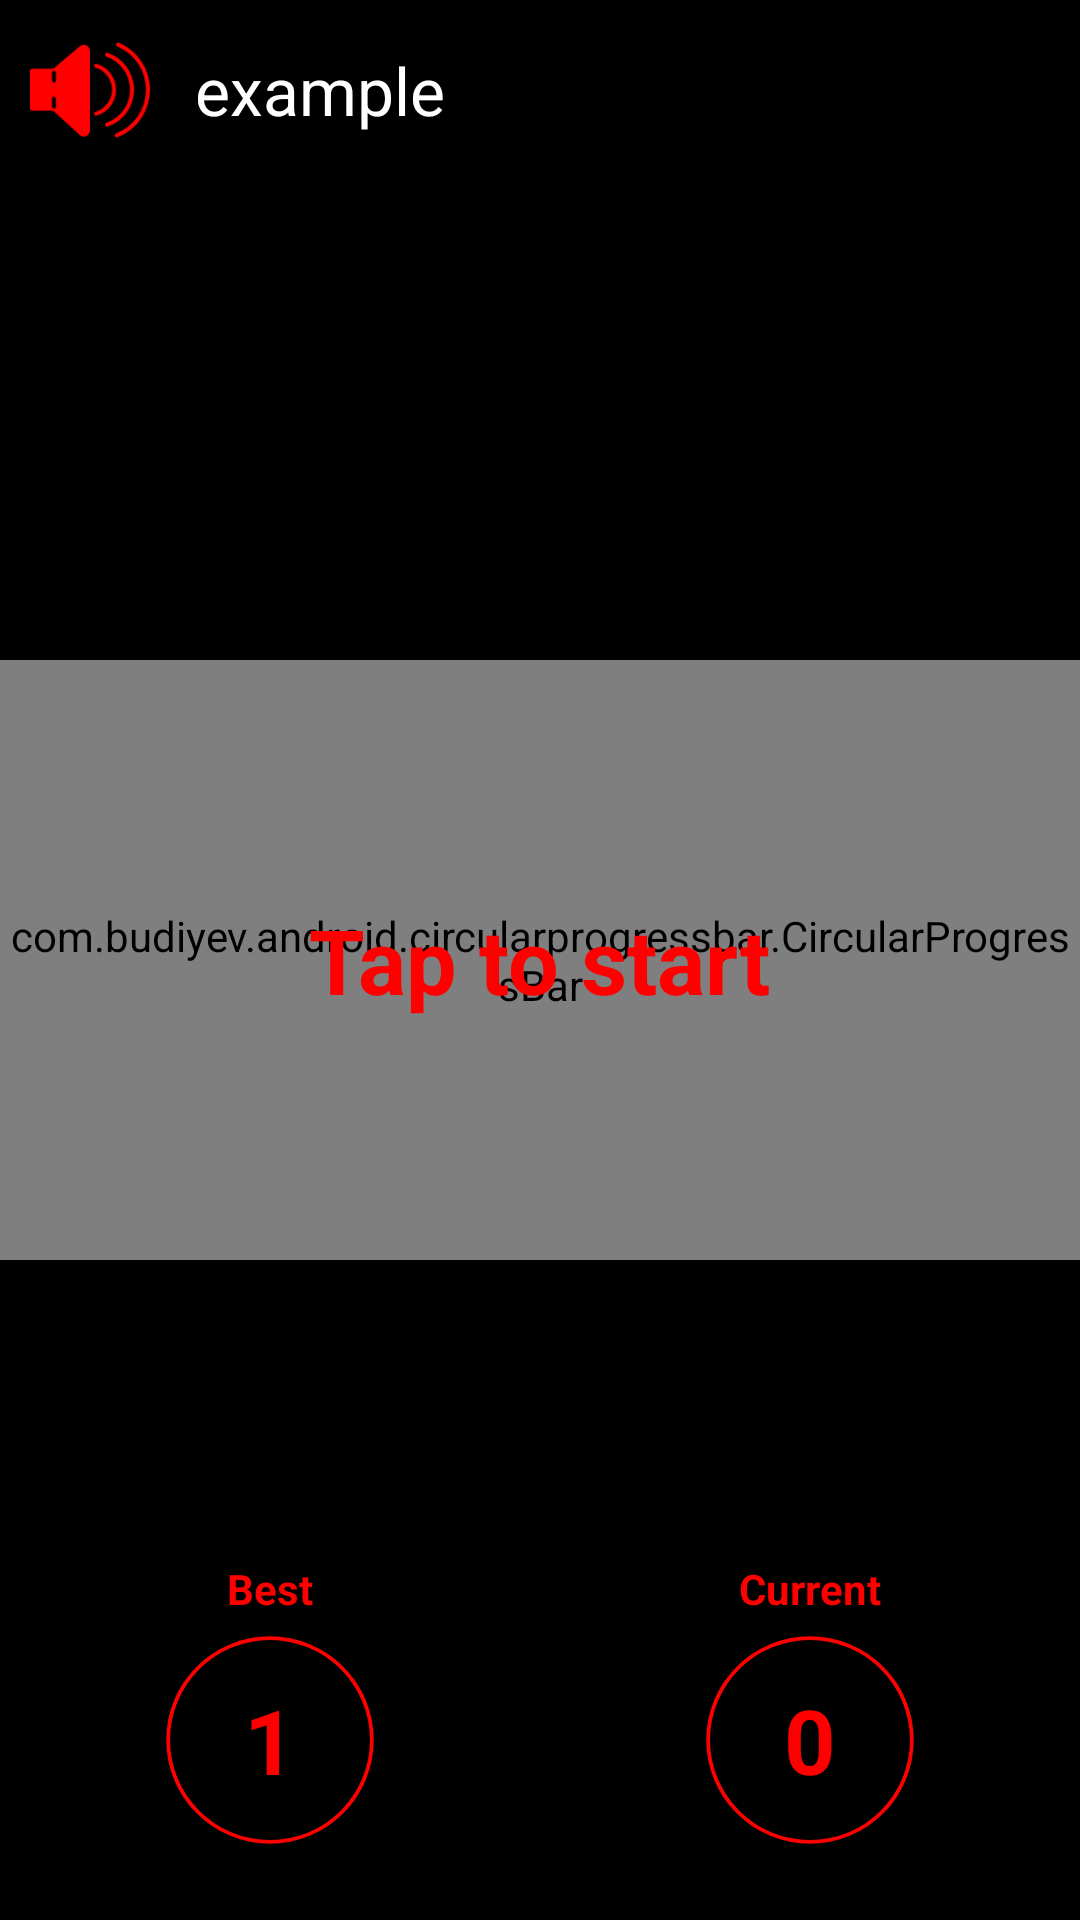

Named icons in this screenshot (1080px×1920px) and their centers, point (x, y):
speaker: point (90, 90)
